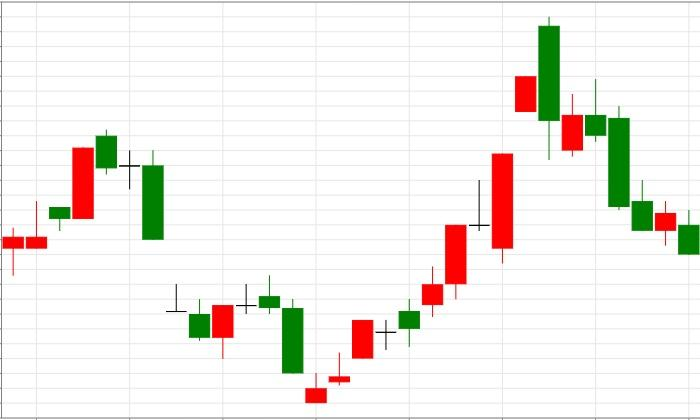bearish_engulfing_fall: (305, 16, 560, 403)
three_white_soldiers_rise: (258, 275, 374, 403)
